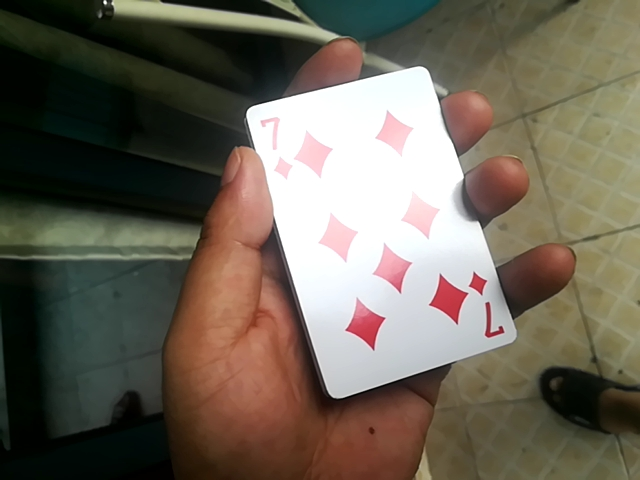fk 7: (256, 61, 519, 418)
